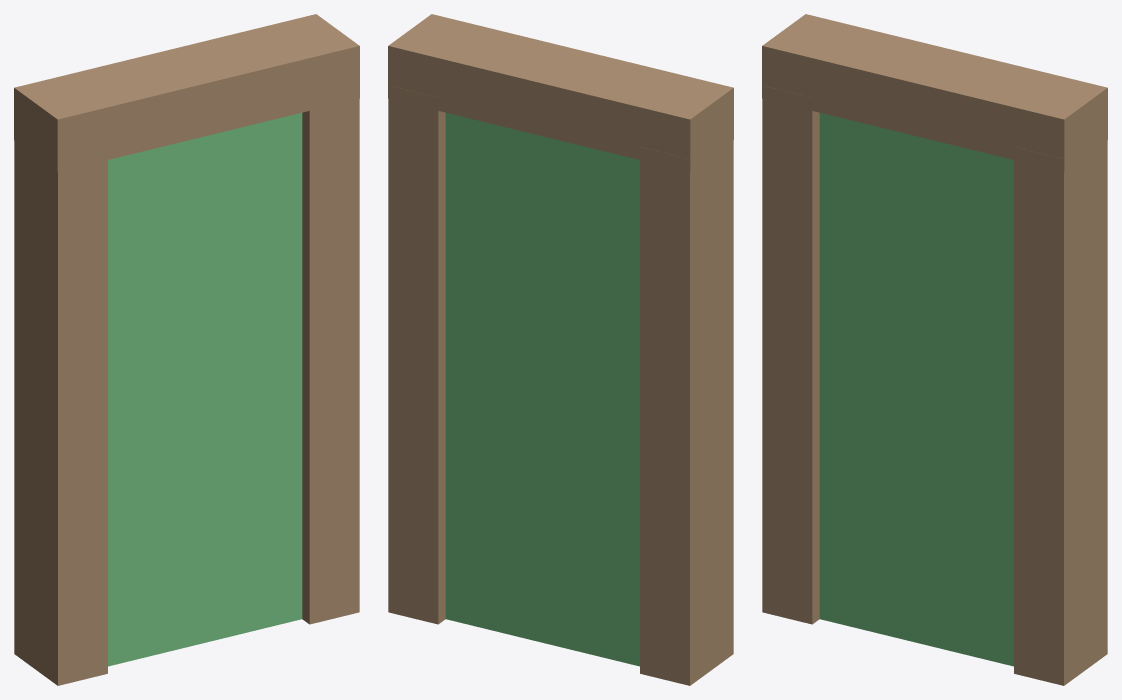
The model's file is doorframe_clearance.glb.
The picture shows the model from 3 angles, left to right: view 1: azimuth 30°, elevation 25°; view 2: azimuth 150°, elevation 25°; view 3: azimuth 330°, elevation 25°; orthographic projection.
Visible parts, largest first — view 1: clear, frame_l, frame_r, header; view 2: clear, frame_l, frame_r, header; view 3: clear, frame_r, frame_l, header.
Part boxes in pixels (box(x1,y1,x2,y2)): clear: box(108, 113, 302, 666); frame_l: box(14, 141, 107, 685); frame_r: box(302, 85, 359, 624); header: box(14, 14, 359, 172); clear: box(445, 113, 639, 666); frame_l: box(640, 141, 733, 685); frame_r: box(388, 85, 445, 624); header: box(388, 14, 733, 172); clear: box(819, 113, 1013, 666); frame_r: box(1014, 141, 1107, 685); frame_l: box(762, 85, 819, 624); header: box(762, 14, 1107, 172).
Bounding box in the file's own units: 1.2 × 2.15 × 0.3008.
